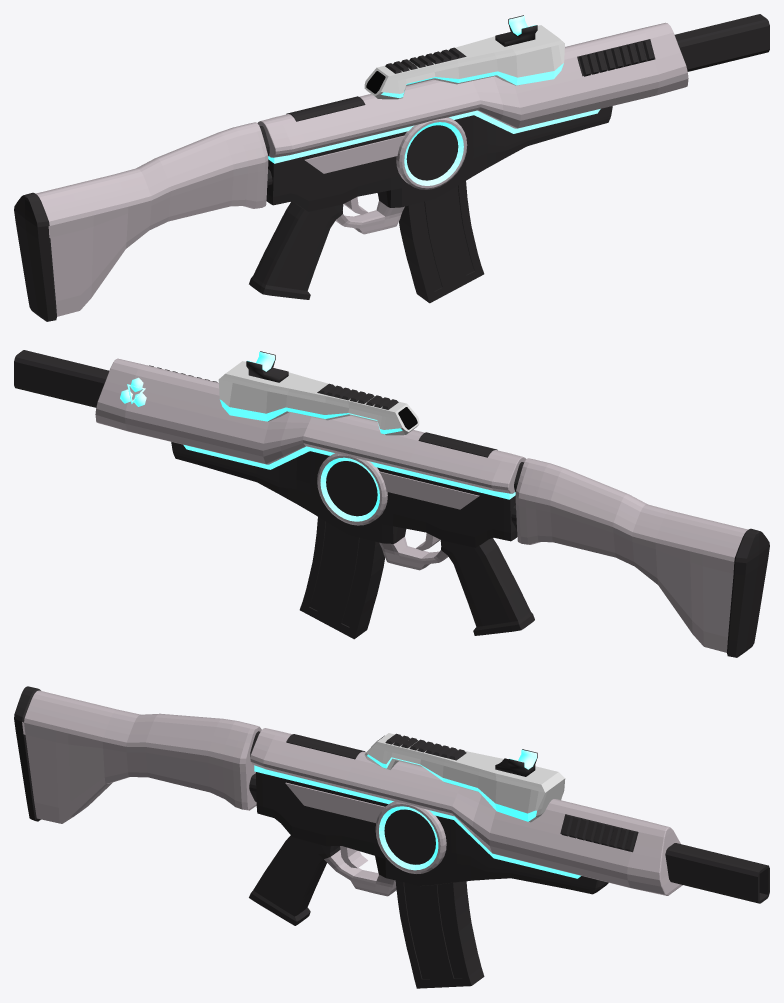
The model's file is NewRifle.fbx.
3 views of the same model, one above another, from view 1: azimuth 30°, elevation 25°; view 2: azimuth 150°, elevation 25°; view 3: azimuth 330°, elevation 25° (orthographic).
Visible parts, largest first — view 1: Rifle, Cube.006; view 2: Rifle, Cube.006; view 3: Rifle, Cube.006.
Part boxes in pixels (x1,y1,x2,y2): Rifle: (14, 14, 769, 321); Cube.006: (399, 181, 484, 303); Rifle: (14, 350, 769, 657); Cube.006: (299, 517, 384, 639); Rifle: (14, 686, 769, 925); Cube.006: (395, 880, 484, 988).
Size of the model in its own units: 8085 by 2637 by 603.
